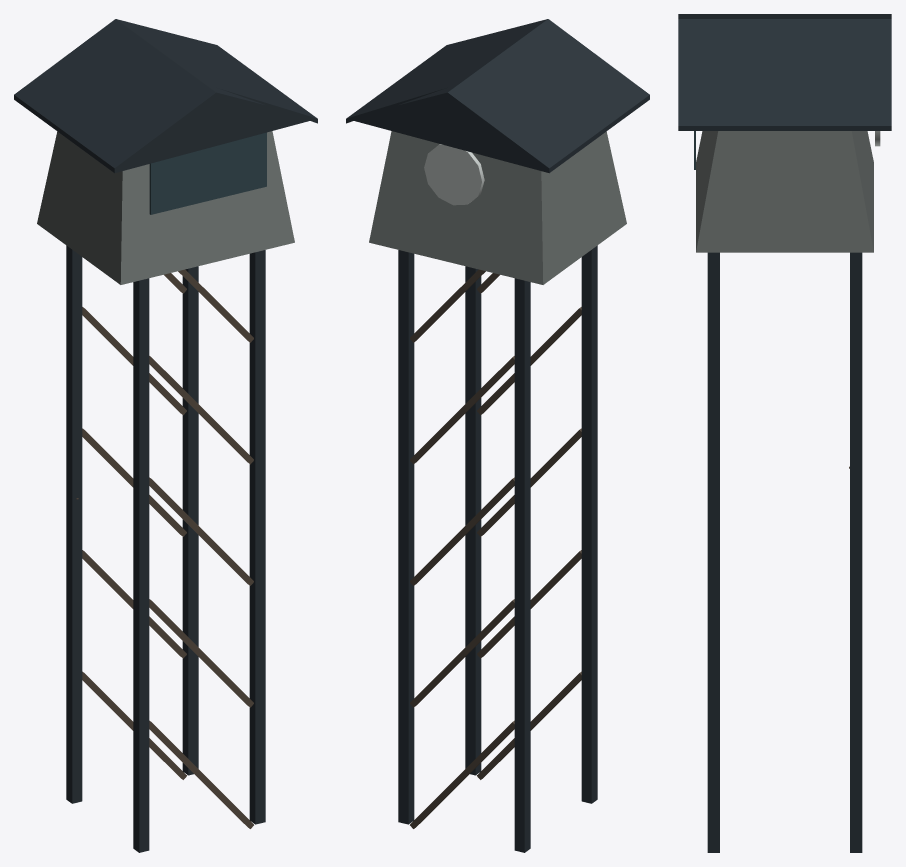
File: signal-tower-1.glb
The picture shows the model from 3 angles, left to right: view 1: azimuth 30°, elevation 25°; view 2: azimuth 150°, elevation 25°; view 3: azimuth 270°, elevation 25°; orthographic projection. The views are drawn at different scales.
Parts seen in each view (by area): view 1: signal-tower/0/KR-230-1; view 2: signal-tower/0/KR-230-1; view 3: signal-tower/0/KR-230-1.
Boxes of the visible parts, bbox=[...] form: signal-tower/0/KR-230-1: bbox=[14, 19, 317, 852]; signal-tower/0/KR-230-1: bbox=[346, 19, 649, 852]; signal-tower/0/KR-230-1: bbox=[678, 14, 891, 852].
Bounding box in the file's own units: 7 × 25.16 × 6.
